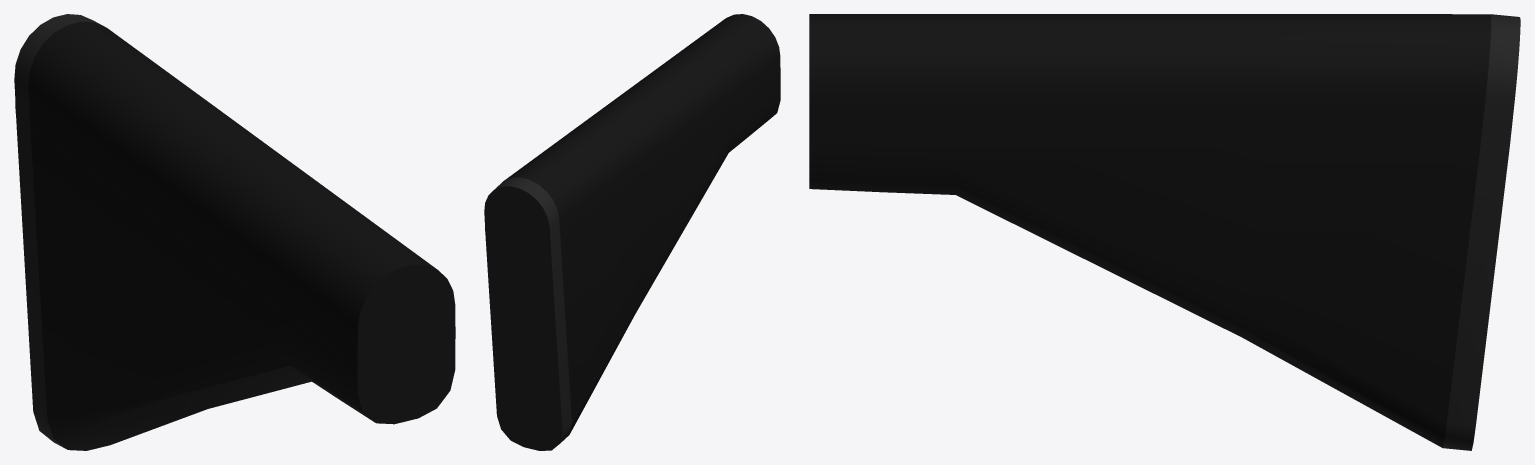
The model's file is stock_0.fbx.
3 renders of one model, left to right at view 1: azimuth 30°, elevation 25°; view 2: azimuth 150°, elevation 25°; view 3: azimuth 270°, elevation 25°, orthographic. The views are drawn at different scales.
Visible parts, largest first — view 1: stock_0; view 2: stock_0; view 3: stock_0.
Part boxes in pixels (box(x1,y1,x2,y2)): stock_0: box(14, 14, 455, 450); stock_0: box(484, 14, 780, 450); stock_0: box(809, 14, 1520, 450).
Size of the model in its own units: 152 by 608 by 930.
